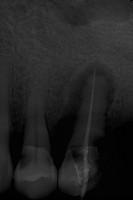Dental Caries: (62, 60, 116, 117)
